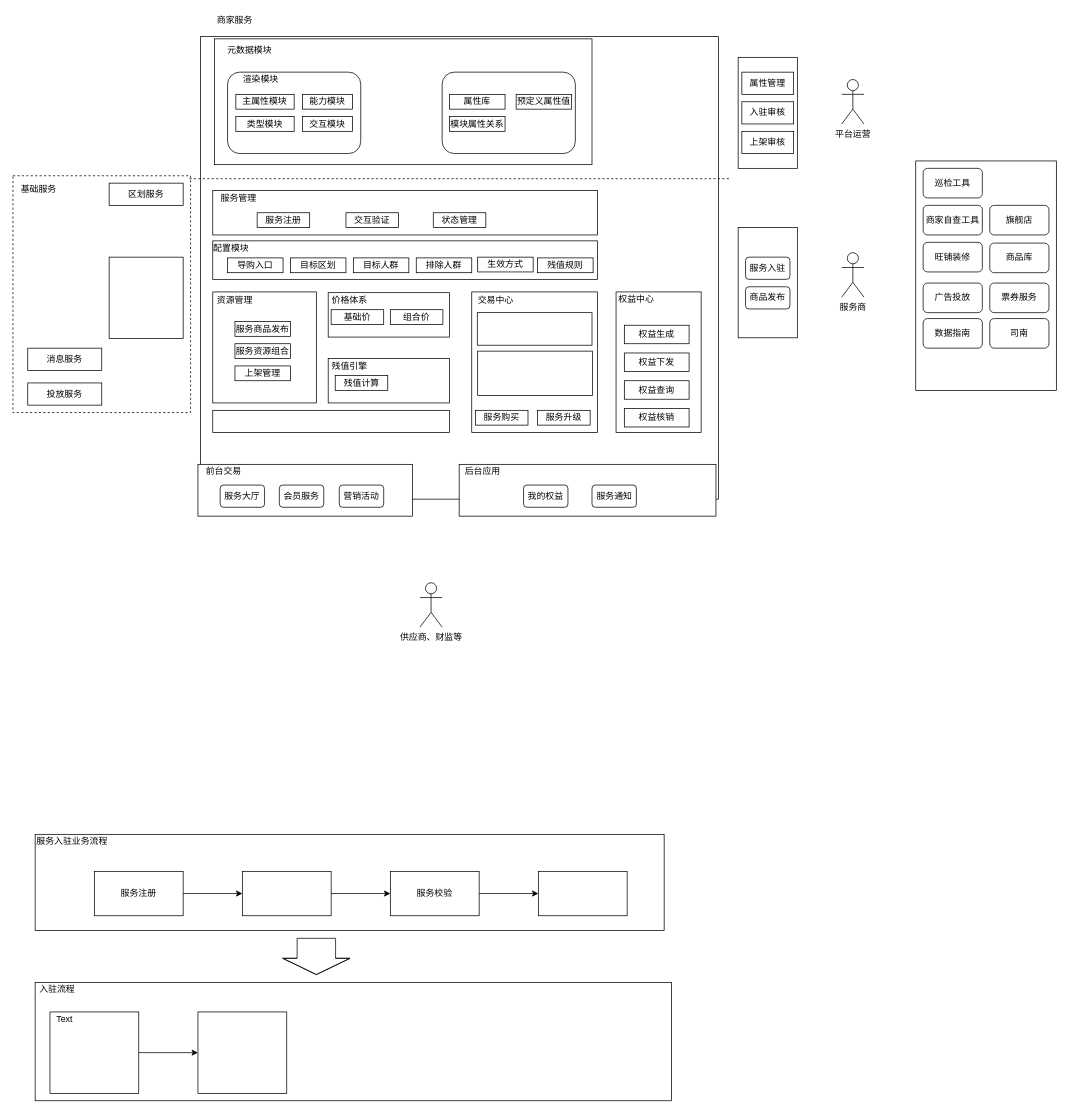
Some shapes in this 1069 by 1114 pixel diagram are drawn without their labels. The centre of each missing label's shape, as x and y in pixels:
"交易履约" goes at point (534, 328).
"初始化阶段" goes at point (242, 1052).
"商品中心" goes at point (145, 297).
"服务发布" goes at point (286, 893).
"服务商品" goes at point (331, 421).
"服务审核" goes at point (582, 893).
"订单管理" goes at point (534, 373).
